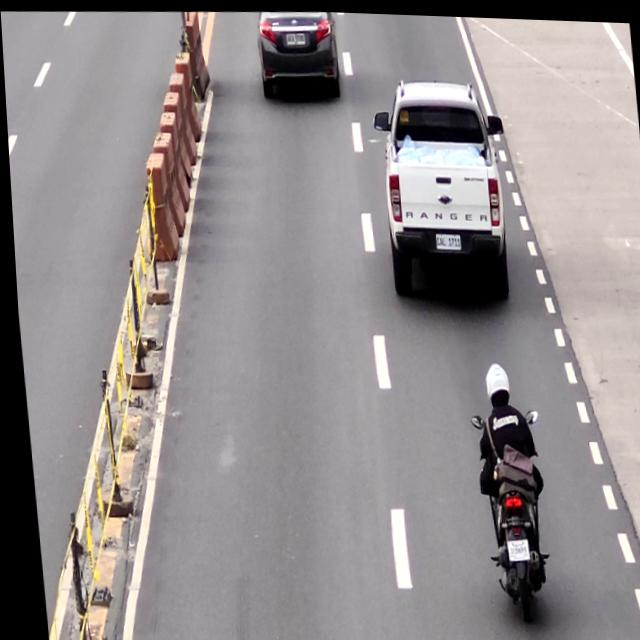Car: (369, 70, 515, 303), (253, 7, 342, 104)
License-Plate: (499, 535, 524, 558), (432, 228, 459, 248), (285, 28, 306, 43)
Motorcycle: (466, 400, 550, 623)
